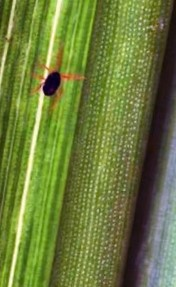Wheat Red Spider: (24, 44, 86, 115)
